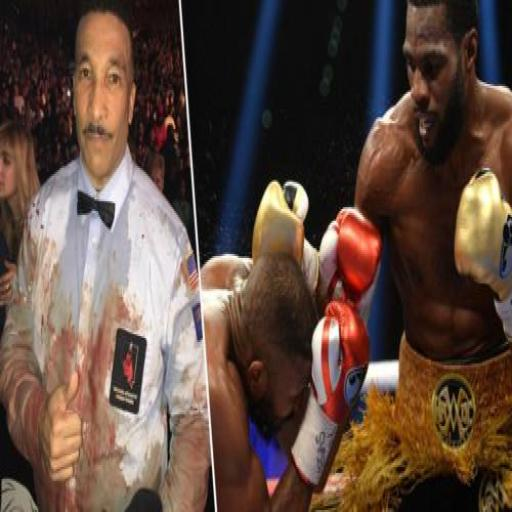boxing: (293, 9, 512, 512), (190, 126, 369, 512)
